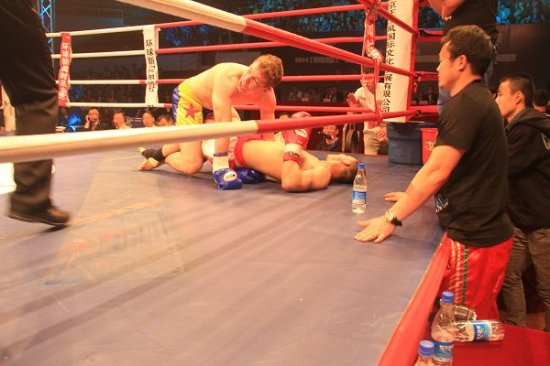fall: (230, 90, 364, 193)
